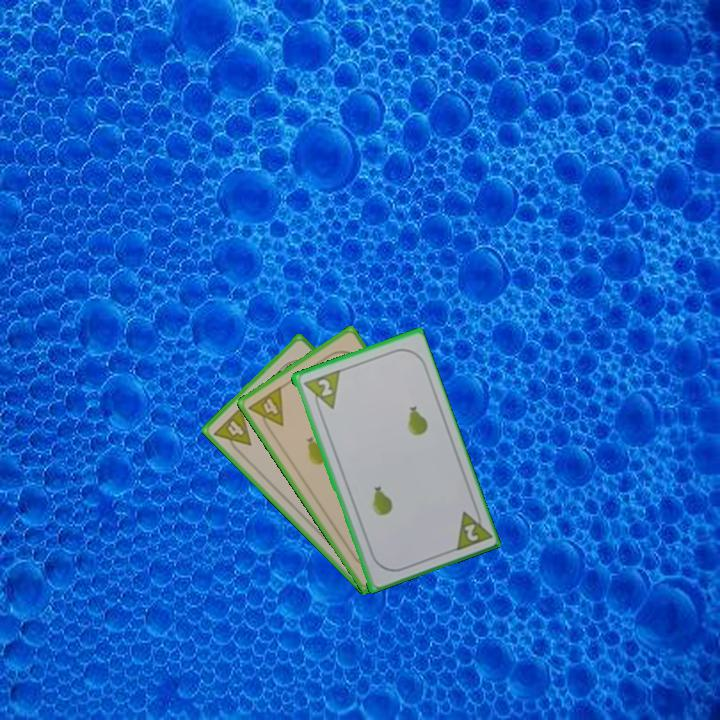2p: (450, 502, 493, 554), (298, 366, 342, 416)
4p: (210, 403, 254, 458), (245, 383, 286, 436)
